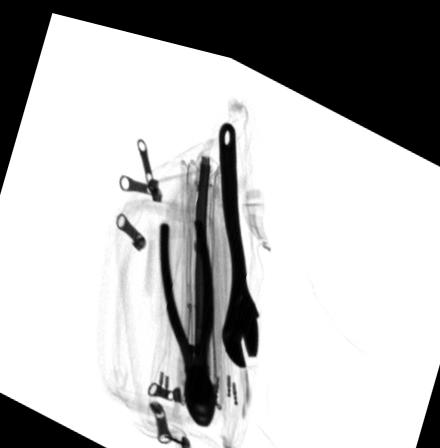Pliers: (158, 206, 219, 417)
Wrench: (218, 108, 262, 356)
